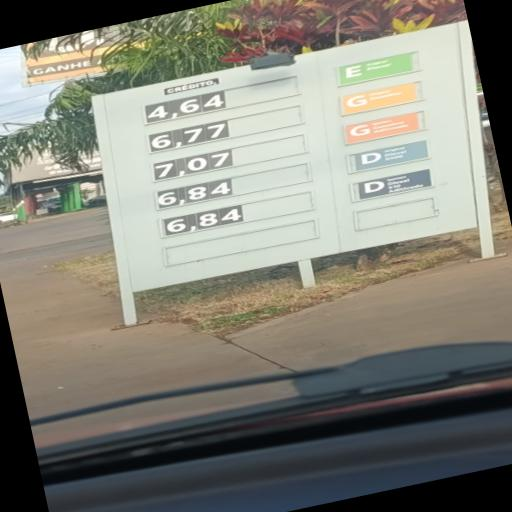ETANOL: (327, 46, 430, 85)
GASOLINA AD: (345, 110, 422, 145)
GASOLINA C: (326, 84, 431, 116)
S10: (352, 166, 439, 199)
S500: (343, 138, 437, 173)
placa: (110, 18, 480, 289)
preco: (160, 202, 258, 239), (144, 175, 233, 211), (142, 86, 225, 123), (149, 118, 232, 153), (153, 148, 233, 182)
